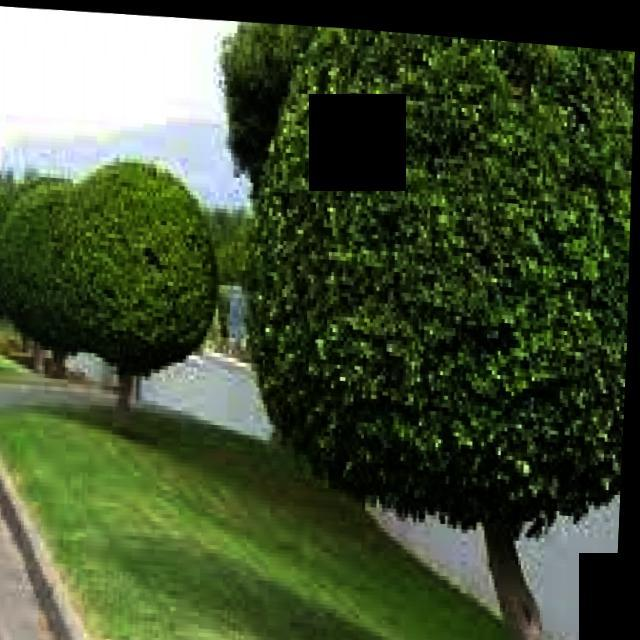Tree: (239, 18, 640, 640), (47, 155, 226, 425), (1, 169, 96, 381)
